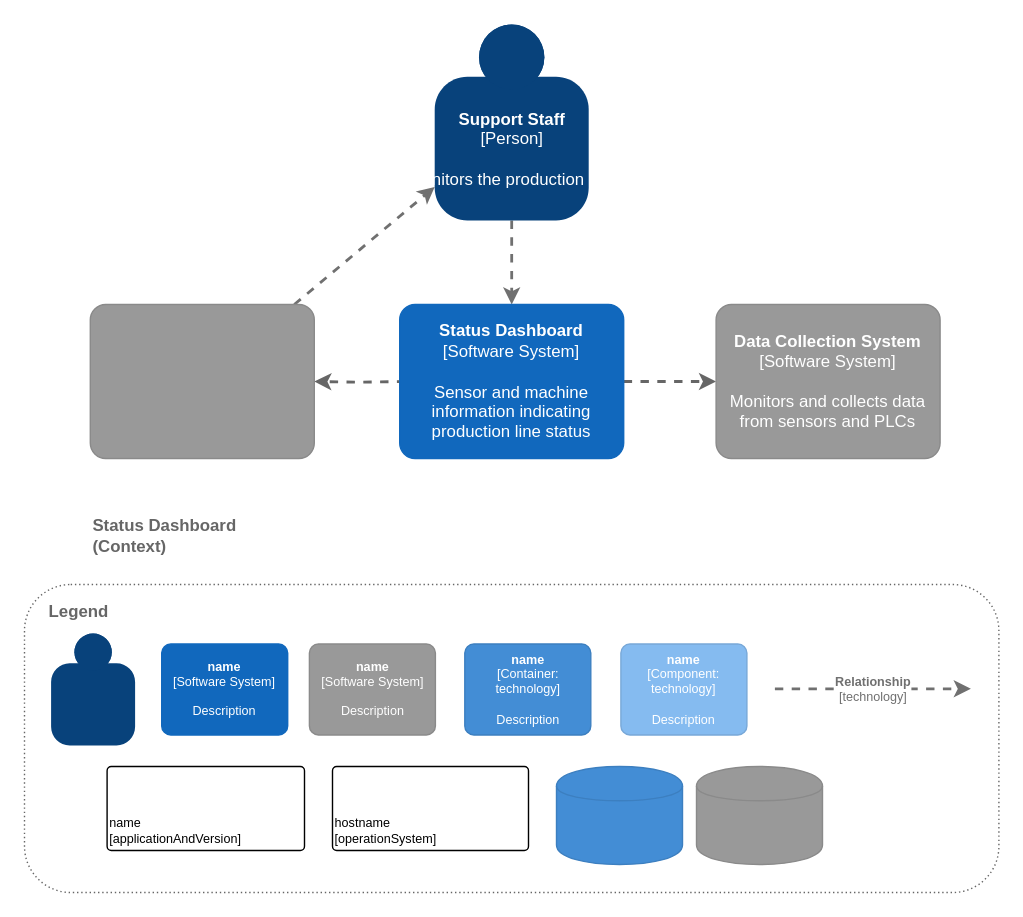
Image size: 1023x917. Some labels were removed from this diagram. Here are the shapes that lost their labels. From the top down, the centre of each, then its label:
At point (201, 380): "Alert System [Software System] Sends SMS notifications of problems".
At point (92, 689): "name [Person] Description".
At point (618, 814): "Database [Container: Technology] Description".
At point (758, 814): "Database [Container: Technology] External".
